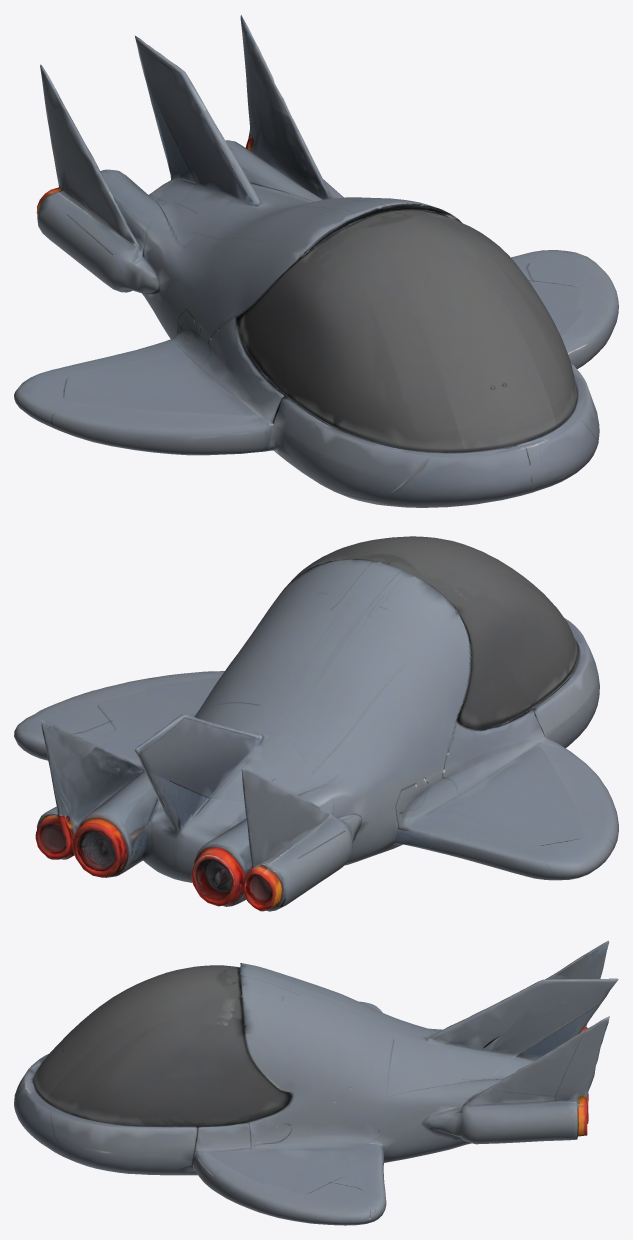
The model's file is emberlight.fbx.
3 renders of one model, top to bottom at view 1: azimuth 30°, elevation 25°; view 2: azimuth 150°, elevation 25°; view 3: azimuth 270°, elevation 25°, orthographic. The views are drawn at different scales.
Visible parts, largest first — view 1: input; view 2: input; view 3: input.
Boxes of the visible parts, x1,y1,x2,y2 form: input: (14,15,618,507); input: (14,536,618,911); input: (14,940,618,1225).
Size of the model in its own units: 169 by 59.08 by 200.
1 material, 1 textured.
